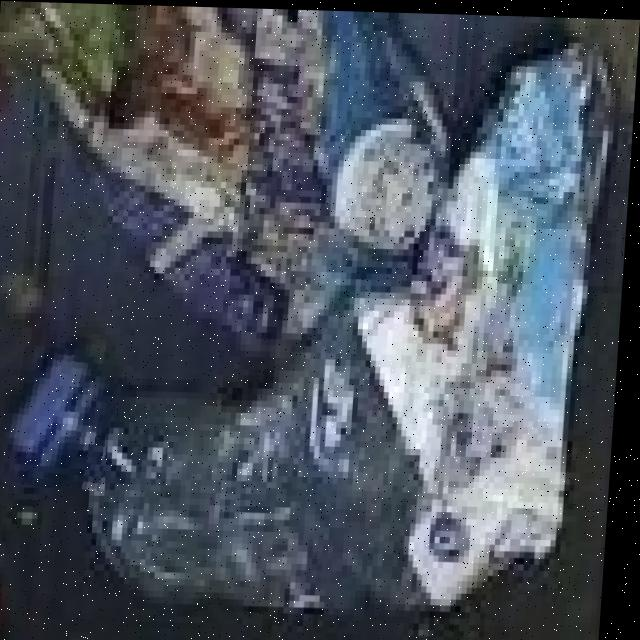plasticbottle: (0, 325, 126, 487)
